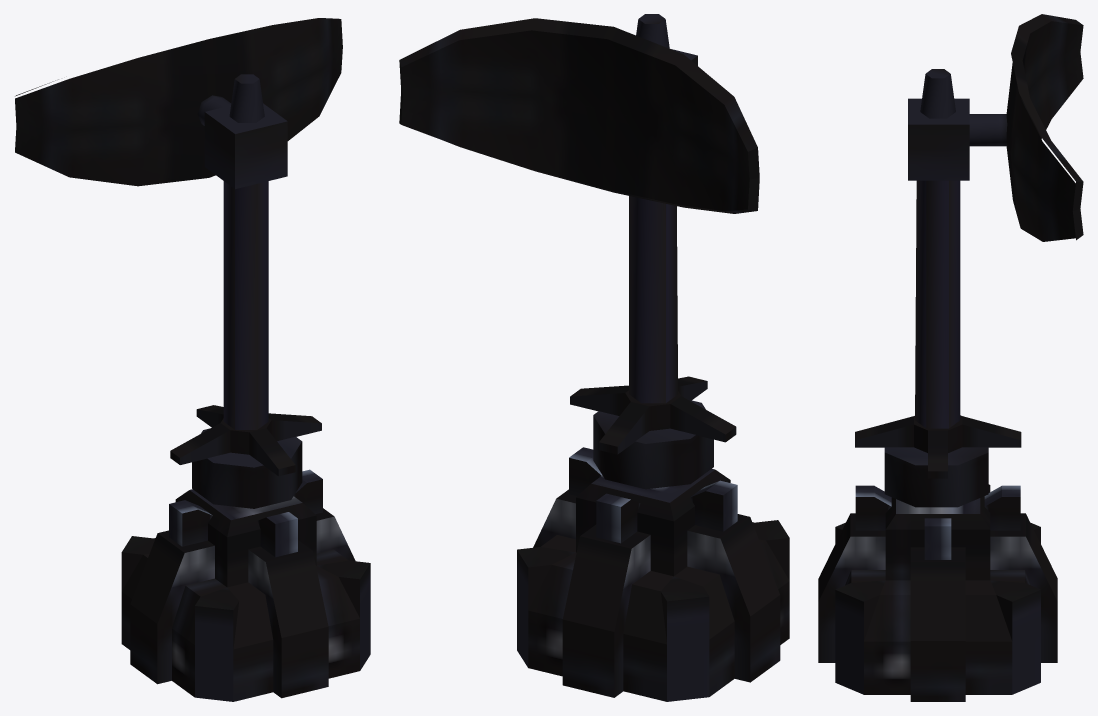
The model's file is armrad_red.glb.
The picture shows the model from 3 angles, left to right: view 1: azimuth 30°, elevation 25°; view 2: azimuth 150°, elevation 25°; view 3: azimuth 270°, elevation 25°; orthographic projection. The views are drawn at different scales.
Parts seen in each view (by area): view 1: base, dish, turret; view 2: base, dish, turret; view 3: base, turret, dish.
Part boxes in pixels (bbox=[...]): base: bbox=[121, 469, 370, 701]; dish: bbox=[15, 18, 342, 186]; turret: bbox=[170, 74, 321, 508]; base: bbox=[517, 447, 789, 701]; dish: bbox=[399, 18, 759, 213]; turret: bbox=[570, 14, 736, 489]; base: bbox=[818, 484, 1057, 701]; turret: bbox=[855, 69, 1021, 507]; dish: bbox=[969, 14, 1083, 241].
Size of the model in its own units: 43.76 by 75.36 by 30.29.
Materials: 1 (1 with a texture image).
